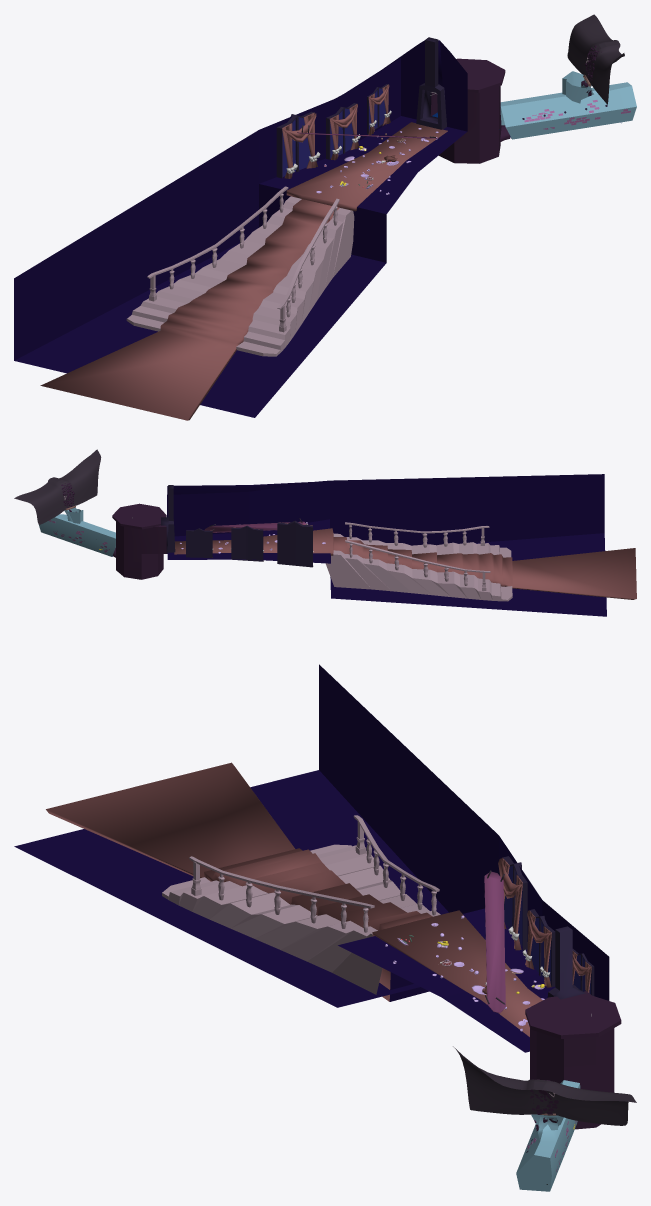
File: tokotokoStageModel_stage2.fbx
The picture shows the model from 3 angles, top to bottom: view 1: azimuth 30°, elevation 25°; view 2: azimuth 150°, elevation 25°; view 3: azimuth 270°, elevation 25°; orthographic projection. The views are drawn at different scales.
Parts seen in each view (by area): view 1: ÄLÄPOSITATÄTÄVITTU.001, table.001where toeat.004, Cube, Cube.007, table.001where toeat.003, Cylinder.009, graveyardÄLÄPOSTAAAAAAA.001; view 2: ÄLÄPOSITATÄTÄVITTU.001, table.001where toeat.004, Cube, Cylinder.009, table.001where toeat.003, graveyardÄLÄPOSTAAAAAAA.001, Cube.007, table; view 3: ÄLÄPOSITATÄTÄVITTU.001, table.001where toeat.004, Cube, Cylinder.009, graveyardÄLÄPOSTAAAAAAA.001, table.001where toeat.003, Cube.007, table.
Part boxes in pixels (<box>): ÄLÄPOSITATÄTÄVITTU.001: <box>14,37,467,417</box>; table.001where toeat.004: <box>40,122,447,420</box>; Cube: <box>126,186,354,356</box>; Cube.007: <box>500,71,636,139</box>; table.001where toeat.003: <box>276,84,391,178</box>; Cylinder.009: <box>430,58,510,163</box>; graveyardÄLÄPOSTAAAAAAA.001: <box>567,14,624,104</box>; ÄLÄPOSITATÄTÄVITTU.001: <box>161,474,606,616</box>; table.001where toeat.004: <box>174,528,636,599</box>; Cube: <box>325,522,512,601</box>; Cylinder.009: <box>112,503,166,579</box>; table.001where toeat.003: <box>186,520,313,567</box>; graveyardÄLÄPOSTAAAAAAA.001: <box>14,449,101,524</box>; Cube.007: <box>38,507,115,556</box>; table: <box>204,518,306,532</box>; ÄLÄPOSITATÄTÄVITTU.001: <box>14,664,609,1052</box>; table.001where toeat.004: <box>46,762,542,1036</box>; Cube: <box>162,815,440,994</box>; Cylinder.009: <box>525,991,621,1129</box>; graveyardÄLÄPOSTAAAAAAA.001: <box>453,1046,636,1125</box>; table.001where toeat.003: <box>498,856,594,995</box>; Cube.007: <box>516,1080,580,1191</box>; table: <box>484,870,505,1013</box>.
Size of what is drawn, in the model's own units: 67354 by 12490 by 39777.
